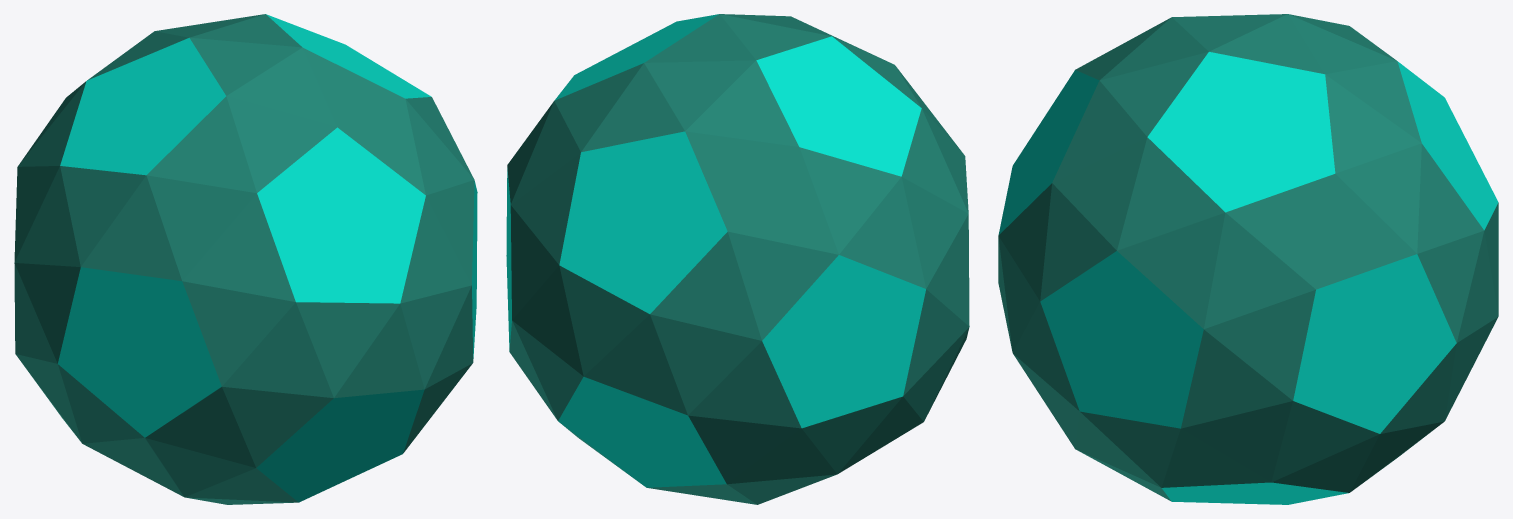
File: 18.DodecaedroSnub.gltf
3 renders of one model, left to right at view 1: azimuth 30°, elevation 25°; view 2: azimuth 150°, elevation 25°; view 3: azimuth 270°, elevation 25°, orthographic. The views are drawn at different scales.
Visible parts, largest first — view 1: Solid.002; view 2: Solid.002; view 3: Solid.002.
Part boxes in pixels (left/top/right/bottom): Solid.002: left=14, top=14, right=477, bottom=504; Solid.002: left=506, top=14, right=969, bottom=504; Solid.002: left=998, top=14, right=1498, bottom=504.
Bounding box in the file's own units: 1.68 × 1.68 × 1.68.
